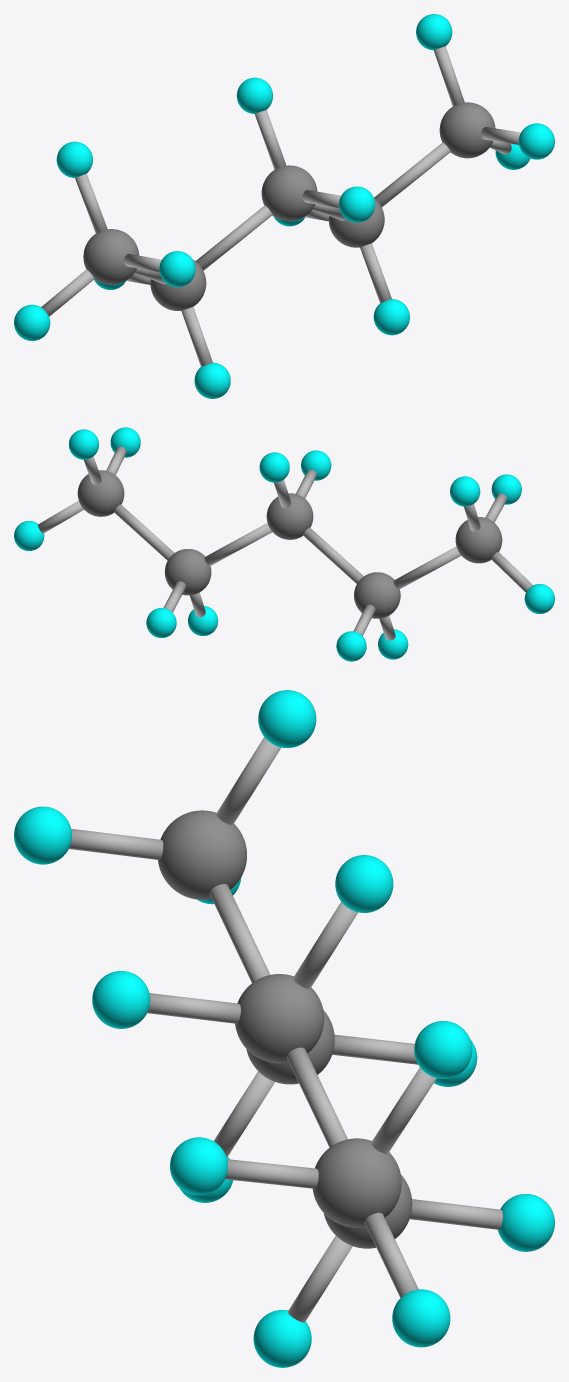
The model's file is pentane.glb.
3 renders of one model, top to bottom at view 1: azimuth 30°, elevation 25°; view 2: azimuth 150°, elevation 25°; view 3: azimuth 270°, elevation 25°, orthographic. The views are drawn at different scales.
Parts seen in each view (by area): view 1: CMAtom_0; view 2: CMAtom_0; view 3: CMAtom_0.
Part boxes in pixels (left/top/right/bottom): CMAtom_0: left=14, top=14, right=554, bottom=398; CMAtom_0: left=14, top=427, right=554, bottom=661; CMAtom_0: left=14, top=690, right=554, bottom=1367.
Bounding box in the file's own units: 0.7357 × 0.3235 × 0.3724.
